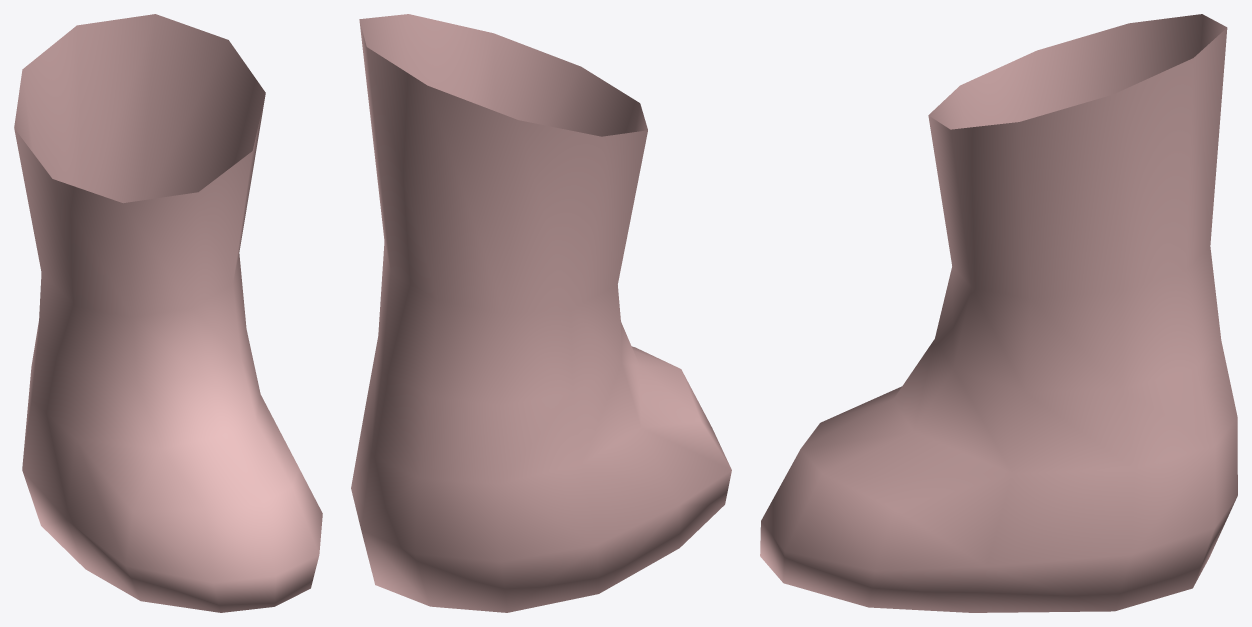
Rendered from Nendoroid_B_Foot03.fbx.
3 renders of one model, left to right at view 1: azimuth 30°, elevation 25°; view 2: azimuth 150°, elevation 25°; view 3: azimuth 270°, elevation 25°, orthographic. The views are drawn at different scales.
Visible parts, largest first — view 1: Nendoroid_B_Foot03; view 2: Nendoroid_B_Foot03; view 3: Nendoroid_B_Foot03.
Boxes of the visible parts, x1=… form: Nendoroid_B_Foot03: x1=14, y1=14, x2=322, y2=612; Nendoroid_B_Foot03: x1=351, y1=14, x2=731, y2=612; Nendoroid_B_Foot03: x1=760, y1=14, x2=1237, y2=612.
Bounding box in the file's own units: 0.2533 × 0.4854 × 0.3933.
